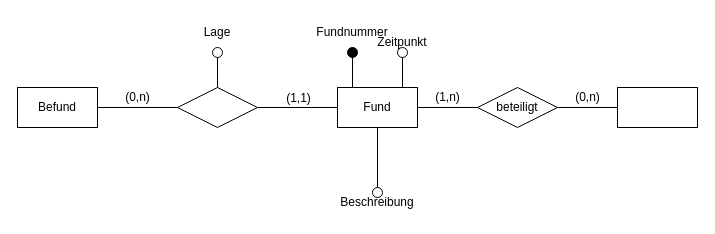
This 715x234 diagram has some shape labels left out. Each missing label, with the centre of its shape:
"gefunden_in" belongs at (x=217, y=107).
"Person" belongs at (x=657, y=107).
